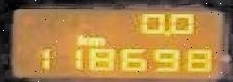-: (162, 30, 169, 34)
0: (138, 11, 162, 32), (169, 11, 193, 32)
1: (35, 46, 51, 70), (69, 46, 82, 69)
6: (118, 46, 147, 71)
8: (182, 46, 211, 72), (84, 46, 113, 70)
9: (151, 47, 178, 71)
X: (73, 32, 87, 45), (87, 36, 105, 45)
